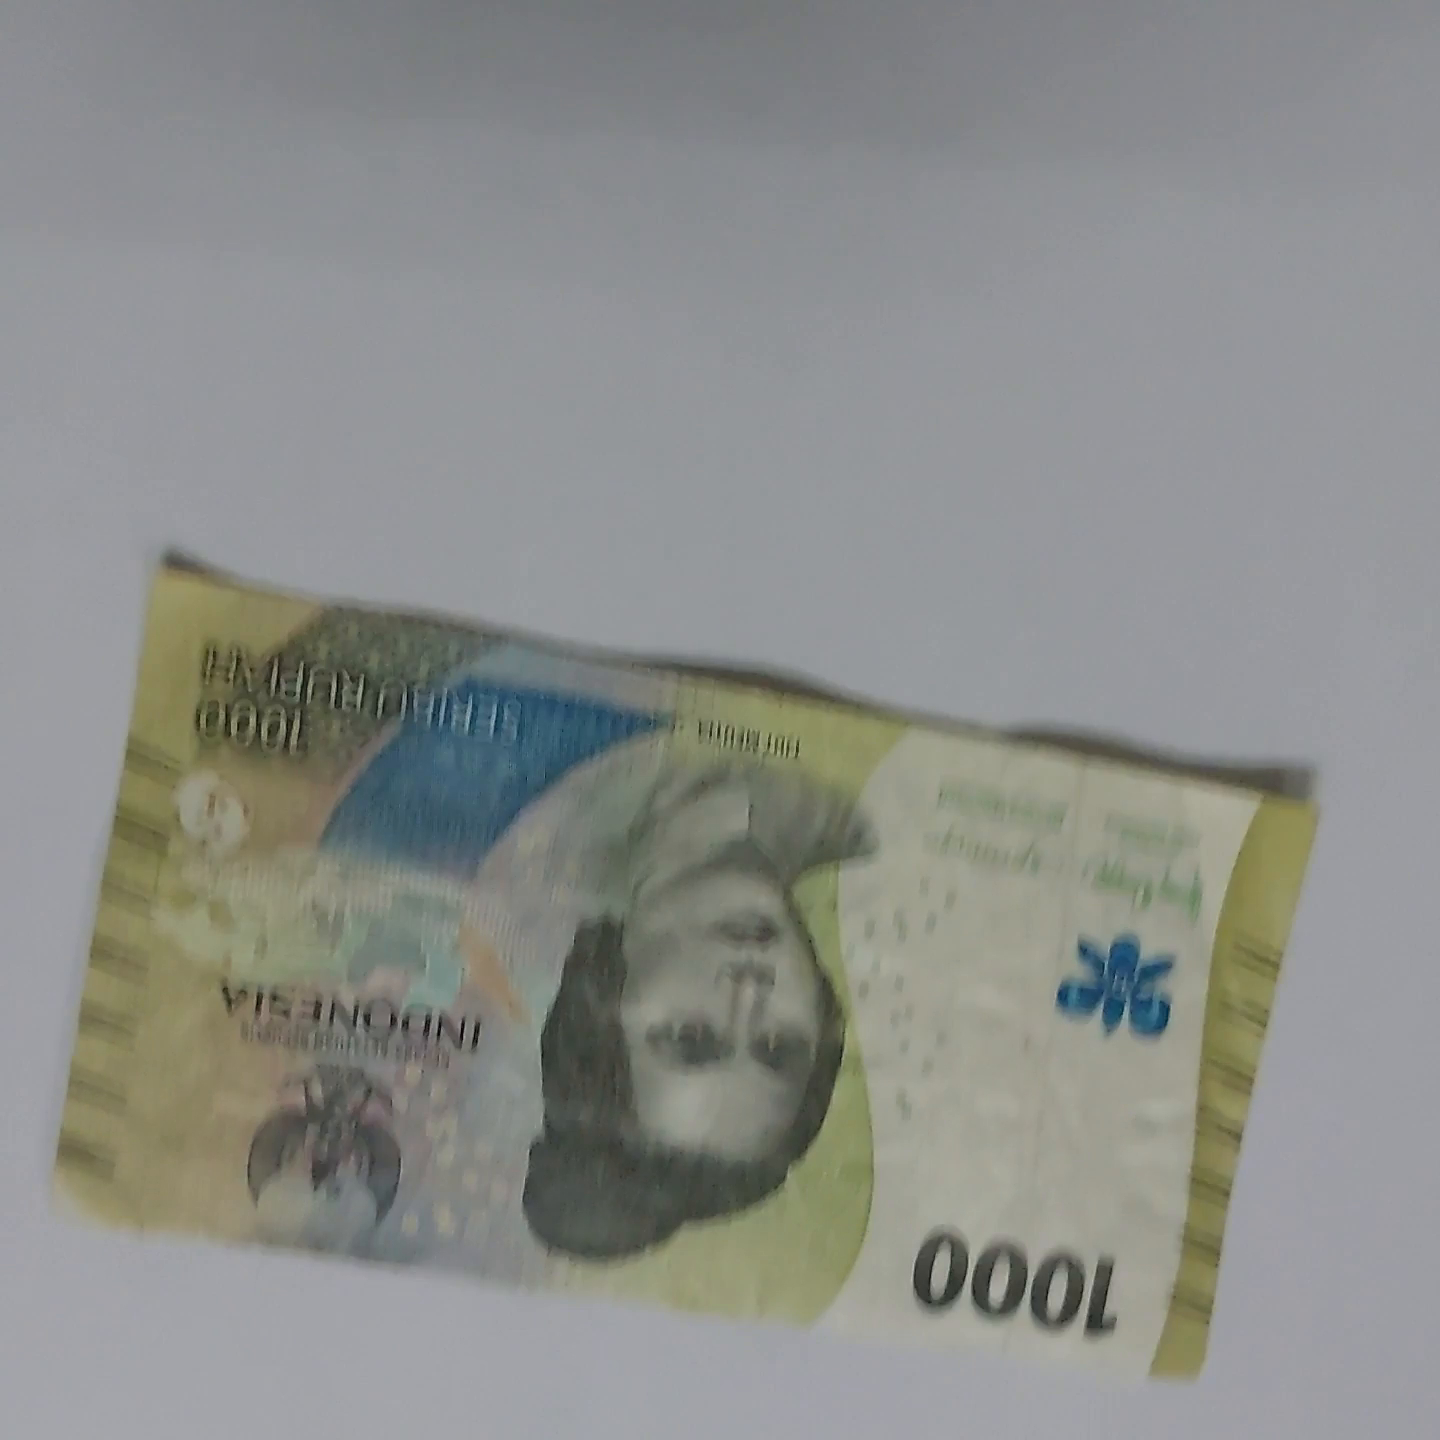1k: (55, 527, 1280, 1423)
